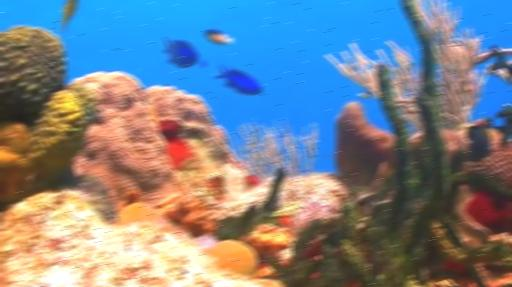Fish: (214, 65, 262, 94), (162, 36, 199, 68), (62, 0, 78, 33), (204, 29, 233, 45), (198, 60, 207, 68), (358, 93, 372, 98)
